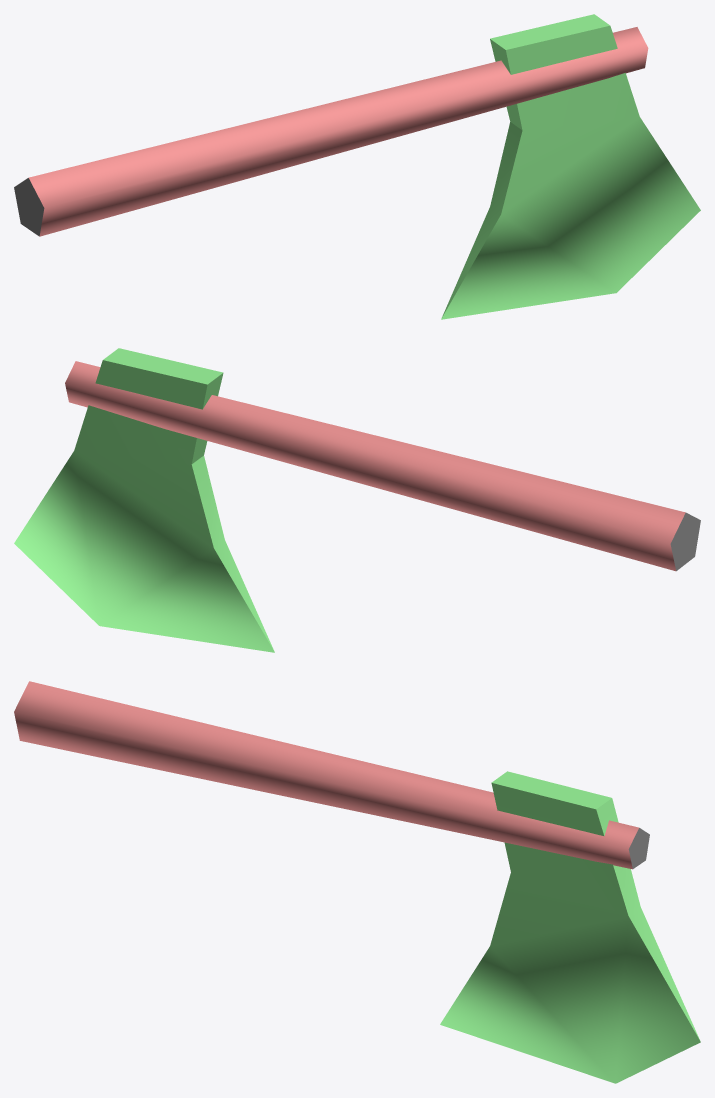
File: V_Obj_S__O_Hatchet-Axe.gltf
3 views of the same model, one above another, from view 1: azimuth 30°, elevation 25°; view 2: azimuth 150°, elevation 25°; view 3: azimuth 330°, elevation 25° (orthographic).
Parts seen in each view (by area): view 1: O_Hatchet-Axe; view 2: O_Hatchet-Axe; view 3: O_Hatchet-Axe.
Part boxes in pixels (bbox=[...]): O_Hatchet-Axe: bbox=[14, 14, 700, 319]; O_Hatchet-Axe: bbox=[14, 348, 700, 652]; O_Hatchet-Axe: bbox=[14, 681, 700, 1083].
Size of the model in its own units: 0.279 by 0.1099 by 0.0219.
